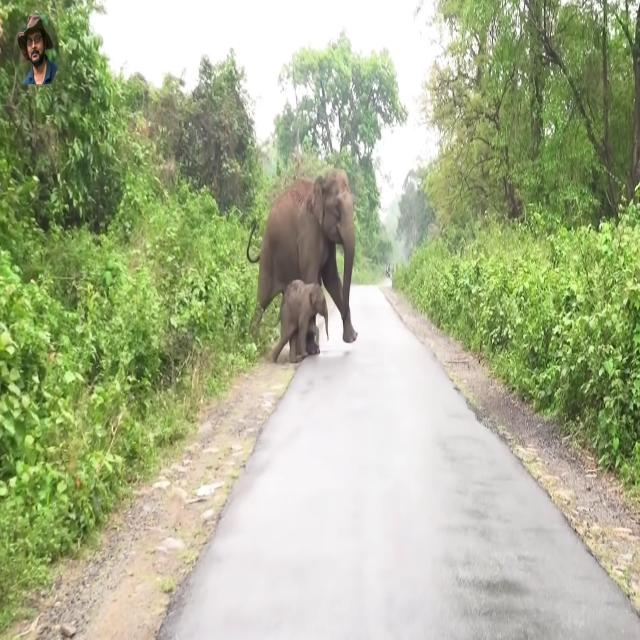Elephant: (246, 167, 358, 348), (269, 278, 329, 364)
